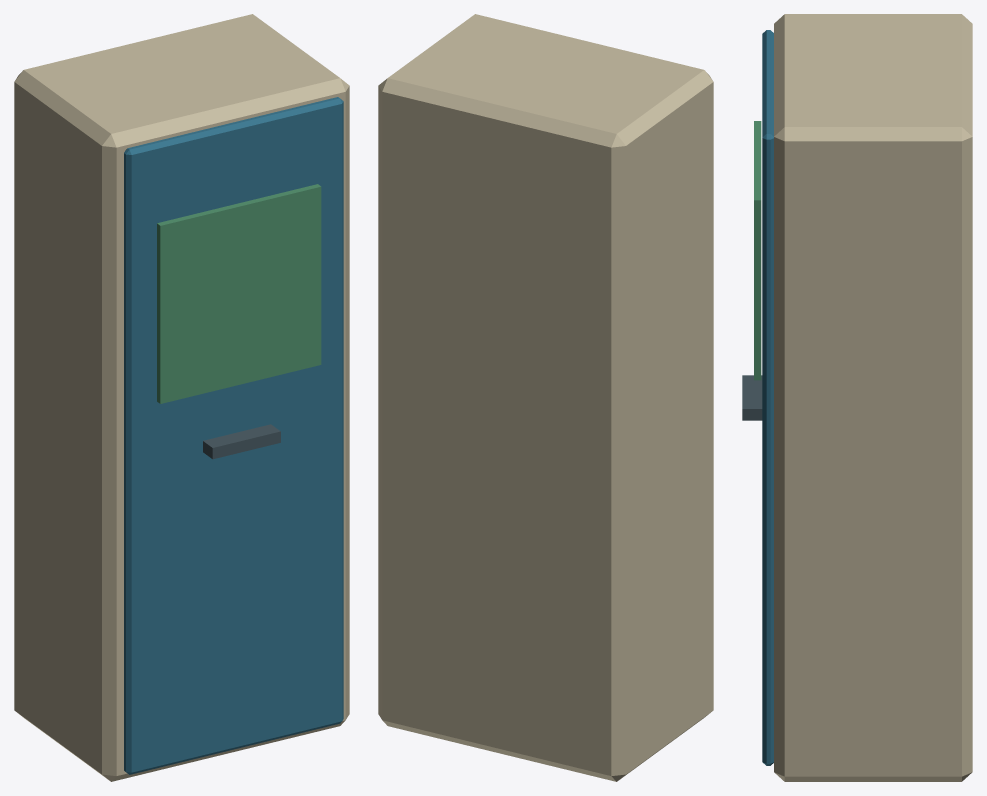
File: medicine_cabinet.glb
3 renders of one model, left to right at view 1: azimuth 30°, elevation 25°; view 2: azimuth 150°, elevation 25°; view 3: azimuth 270°, elevation 25°, orthographic.
Visible parts, largest first — view 1: medicine_cabinet; view 2: medicine_cabinet; view 3: medicine_cabinet.
Boxes of the visible parts, box(x1,y1,x2,y2) form: medicine_cabinet: box(14, 14, 349, 781); medicine_cabinet: box(378, 14, 713, 781); medicine_cabinet: box(742, 14, 972, 781).
Bounding box in the file's own units: 0.8 × 2 × 0.6375.
